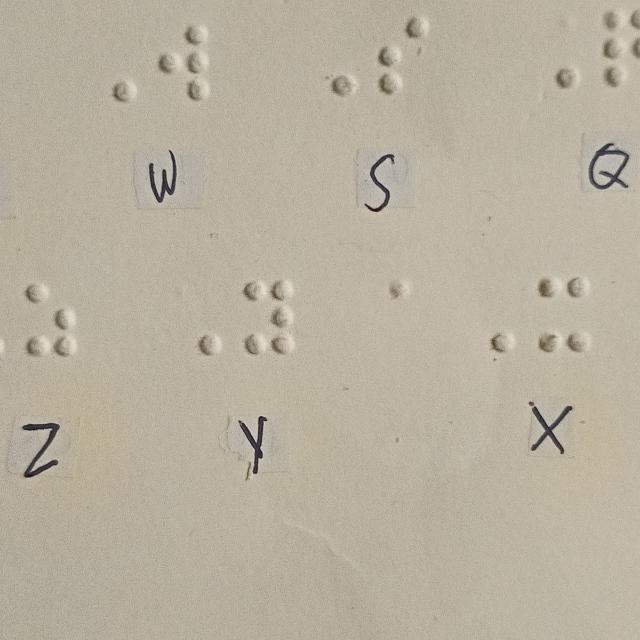capital_sign: (468, 277, 517, 355), (90, 28, 139, 105), (311, 23, 360, 100), (532, 13, 581, 90), (176, 280, 225, 357)
letter_Q: (601, 8, 640, 86)
letter_S: (379, 15, 428, 94)
letter_W: (160, 25, 209, 103)
letter_X: (540, 276, 589, 354)
letter_Y: (245, 277, 294, 355)
